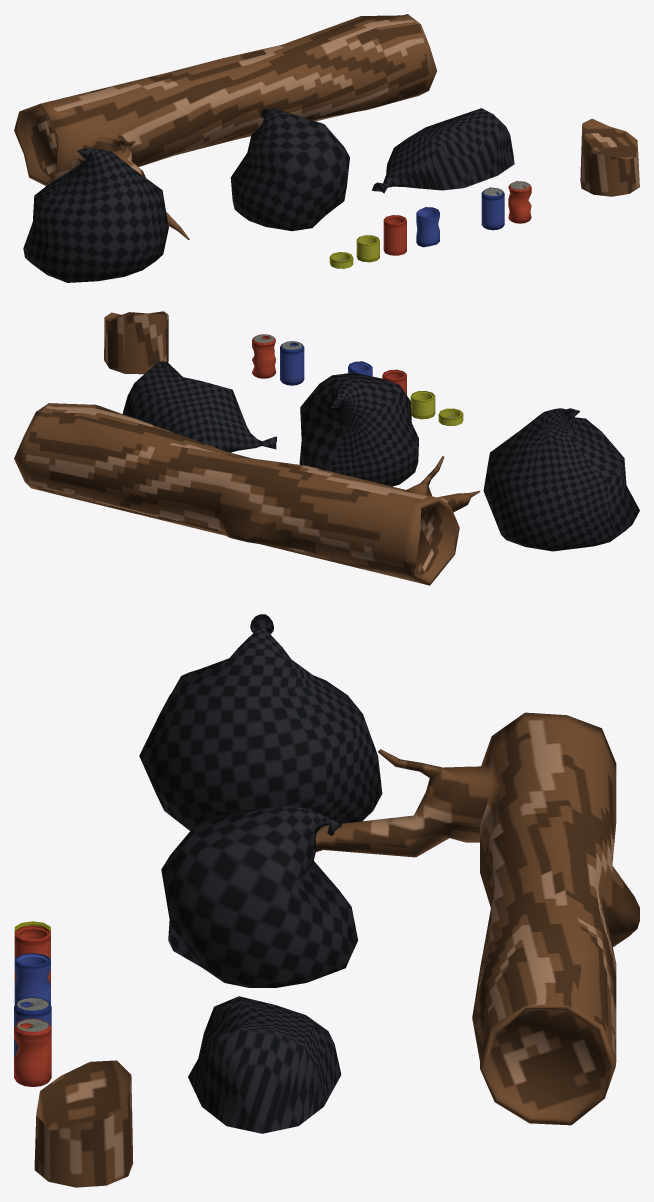
Rendered from Trsh Textured.fbx.
3 renders of one model, top to bottom at view 1: azimuth 30°, elevation 25°; view 2: azimuth 150°, elevation 25°; view 3: azimuth 270°, elevation 25°, orthographic. The views are drawn at different scales.
Visible parts, largest first — view 1: Log, Bin Bag 1, Bin Bag 2, Bin Bag 3, Small Log, Can, Food Can 1, Crushed Can, Food Can 4, Food Can 3; view 2: Log, Bin Bag 1, Bin Bag 2, Bin Bag 3, Small Log, Can, Crushed Can, Food Can 3, Food Can 2; view 3: Log, Bin Bag 1, Bin Bag 2, Bin Bag 3, Small Log, Crushed Can, Food Can 4, Food Can 1, Can.
Part boxes in pixels (x1,y1,x2,y2): Log: [14, 14, 436, 239]; Bin Bag 1: [23, 148, 168, 282]; Bin Bag 2: [230, 108, 349, 231]; Bin Bag 3: [371, 108, 514, 193]; Small Log: [580, 118, 639, 196]; Can: [481, 187, 504, 230]; Food Can 1: [383, 215, 406, 255]; Crushed Can: [508, 181, 531, 223]; Food Can 4: [416, 207, 439, 247]; Food Can 3: [356, 235, 379, 262]; Log: [14, 403, 480, 585]; Bin Bag 1: [483, 408, 639, 551]; Bin Bag 2: [299, 372, 418, 486]; Bin Bag 3: [122, 361, 276, 452]; Small Log: [104, 311, 168, 374]; Can: [280, 341, 304, 385]; Crushed Can: [252, 334, 276, 378]; Food Can 3: [410, 391, 435, 419]; Food Can 2: [438, 408, 463, 425]; Log: [315, 712, 639, 1125]; Bin Bag 1: [139, 614, 382, 830]; Bin Bag 2: [161, 805, 357, 987]; Bin Bag 3: [188, 996, 341, 1133]; Small Log: [34, 1060, 133, 1187]; Crushed Can: [14, 1018, 51, 1086]; Food Can 4: [14, 953, 50, 1004]; Food Can 1: [14, 925, 50, 984]; Can: [14, 997, 51, 1056].
Size of the model in its own units: 101 by 19.44 by 61.81.
Materials: 1 (1 with a texture image).
